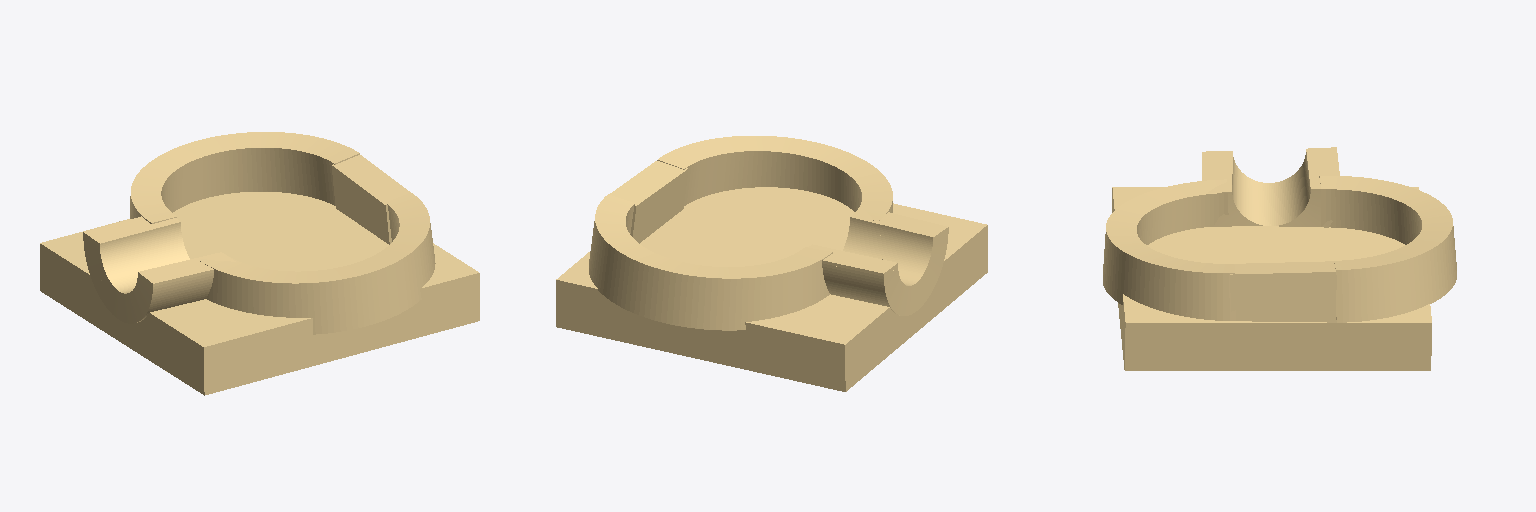
The model's file is wooden_end_piece.obj.
3 views of the same model, side by side, from view 1: azimuth 30°, elevation 25°; view 2: azimuth 150°, elevation 25°; view 3: azimuth 270°, elevation 25° (orthographic).
Parts seen in each view (by area): view 1: wooden_end_piece; view 2: wooden_end_piece; view 3: wooden_end_piece.
Boxes of the visible parts, x1,y1,x2,y2 form: wooden_end_piece: [40, 132, 479, 395]; wooden_end_piece: [556, 136, 987, 391]; wooden_end_piece: [1103, 147, 1456, 370].
Size of the model in its own units: 0.8298 by 0.2708 by 0.8693.